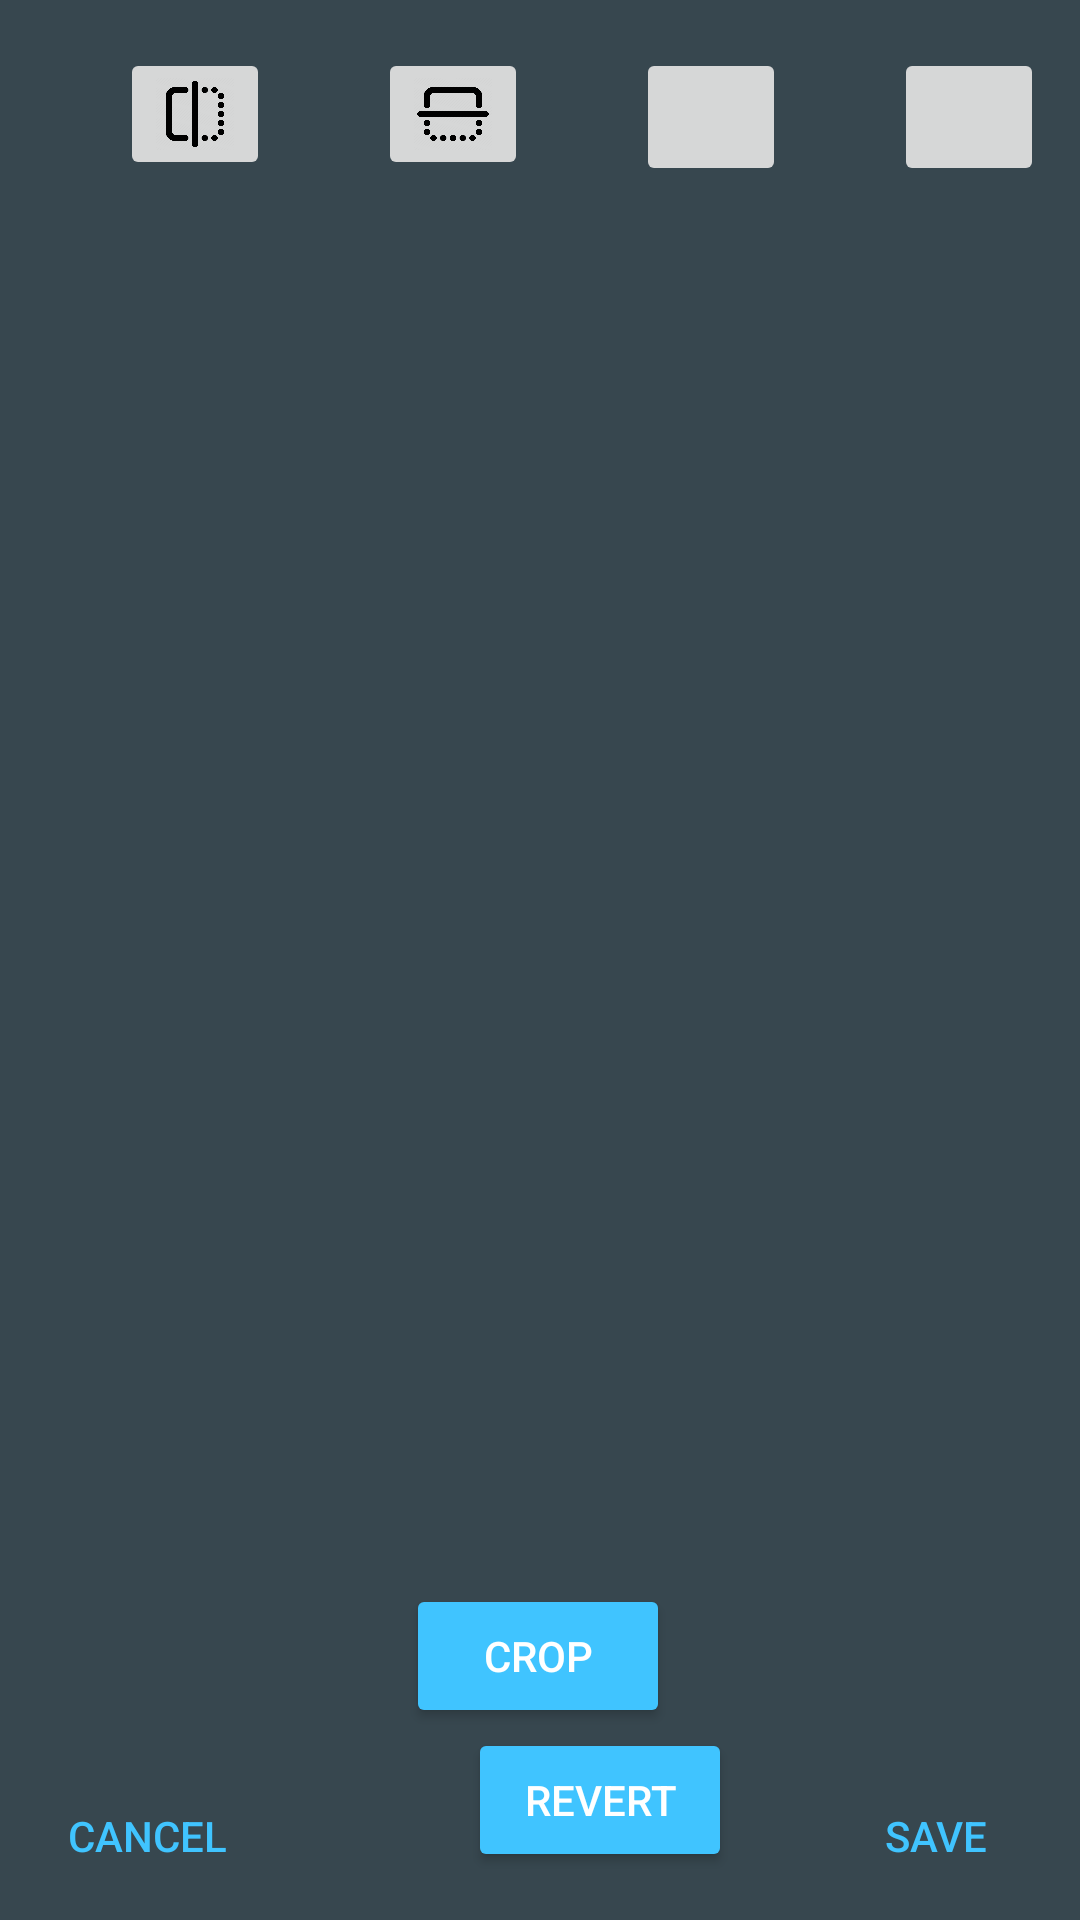

Icons on this 1080px x 1920px Android screen, each with the point to tap as point (x, y):
horizontal flip: point (195, 114)
vertical flip: point (453, 114)
